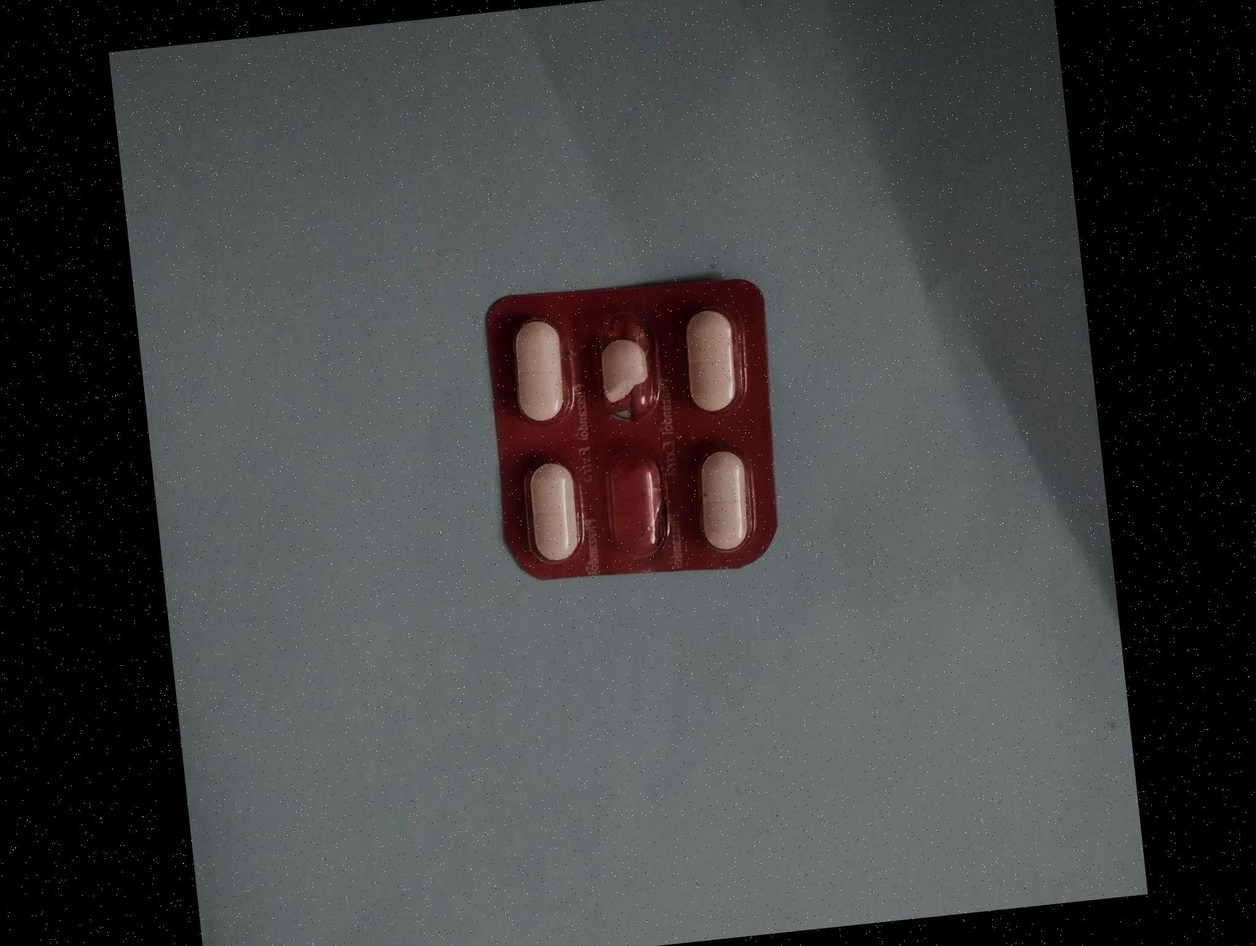Empty: (599, 445, 668, 566)
Full: (677, 293, 743, 416), (504, 304, 571, 425), (520, 455, 586, 570), (692, 445, 755, 556)
Partial: (589, 302, 659, 421)
